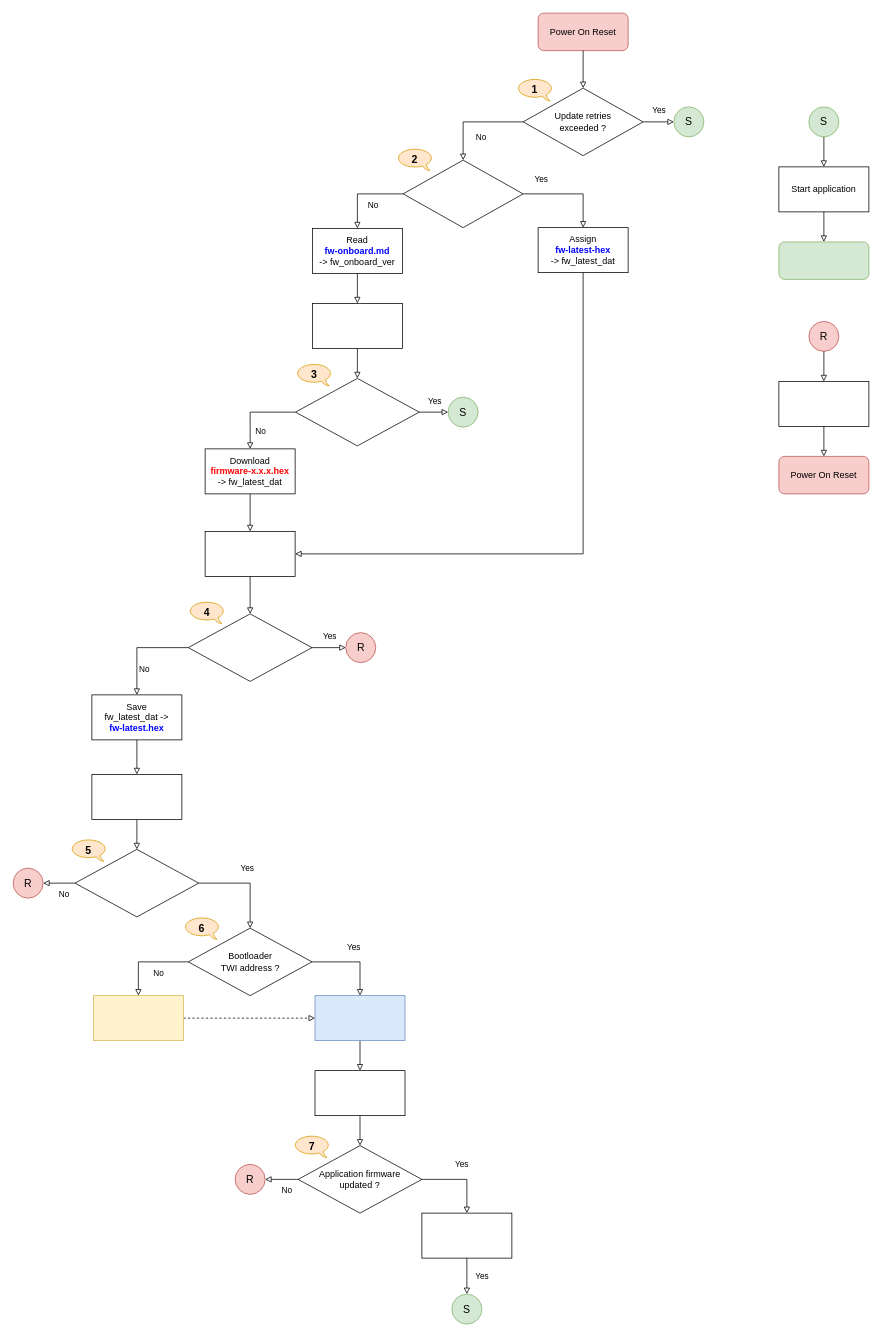
The diagram is 882 pixels wide and 1337 high, and some of its shapes have lost their labels. Each missing label, with the box of its shape:
1.Initialize bootloader 2. Upload firmware: (314, 995, 405, 1041)
Does fw-latest.hex exist in FS?: (402, 159, 523, 228)
End update process: (778, 241, 869, 279)
fw_onboard_ver = fw_latest_ver ?: (295, 378, 419, 446)
IHex parse errors ?: (188, 613, 312, 681)
Increment retries counter, save file & reset master: (778, 381, 869, 426)
Parse IHex fw_latest_dat -> payload: (204, 531, 295, 576)
Read fw-latest.md -> fw_latest_ver: (312, 303, 402, 348)
Rename fw-latest.hex -> fw-onboard.hex: (421, 1212, 512, 1258)
Reset ATtiny85 to stop application and start bootloader: (93, 995, 183, 1041)
Scan TWI bus: (91, 774, 182, 819)
Start application Verify app version: (314, 1070, 405, 1116)
TWI device detected ?: (74, 849, 199, 917)
